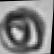correct: (0, 3, 49, 54)
